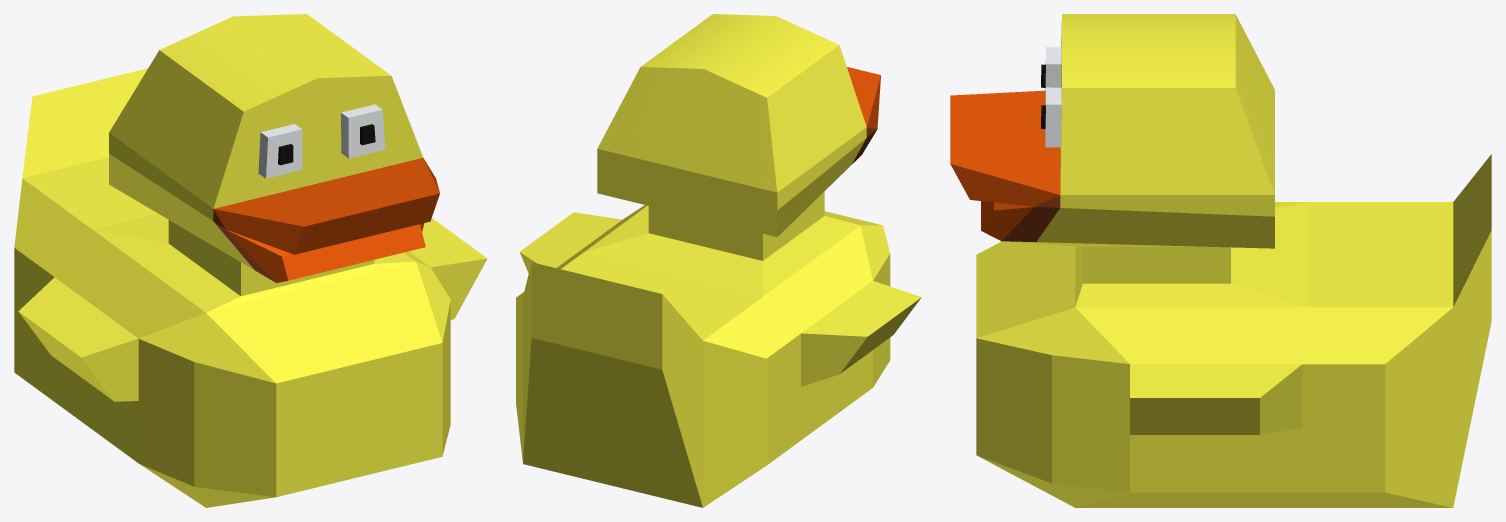
The model's file is Duck.glb.
3 views of the same model, side by side, from view 1: azimuth 30°, elevation 25°; view 2: azimuth 150°, elevation 25°; view 3: azimuth 270°, elevation 25° (orthographic). The views are drawn at different scales.
Visible parts, largest first — view 1: Cube; view 2: Cube; view 3: Cube.
Part boxes in pixels (x1=…): Cube: x1=14, y1=14, x2=487, y2=507; Cube: x1=516, y1=14, x2=921, y2=507; Cube: x1=950, y1=14, x2=1491, y2=507.
Size of the model in its own units: 23.34 by 22.46 by 26.22.
1 material, 1 textured.
